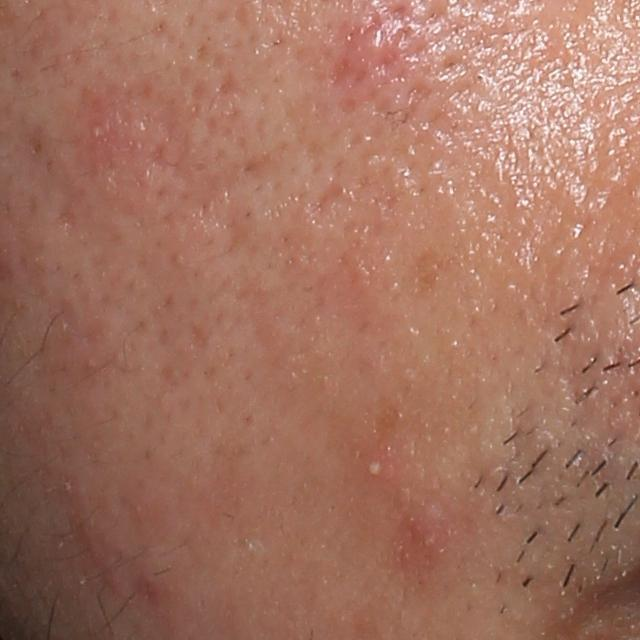atrophic_scar: (200, 204, 256, 252), (307, 176, 344, 220)
papule: (336, 17, 411, 86), (403, 512, 450, 559)
pustule: (362, 455, 391, 484)
